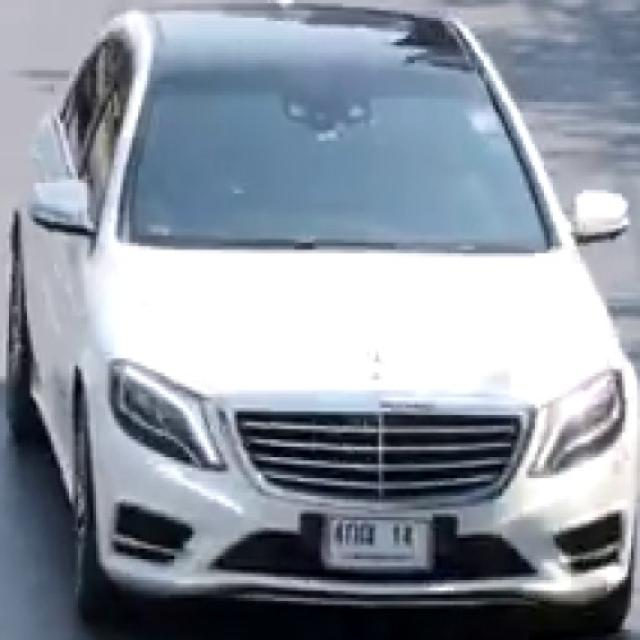plate: (326, 515, 434, 571)
